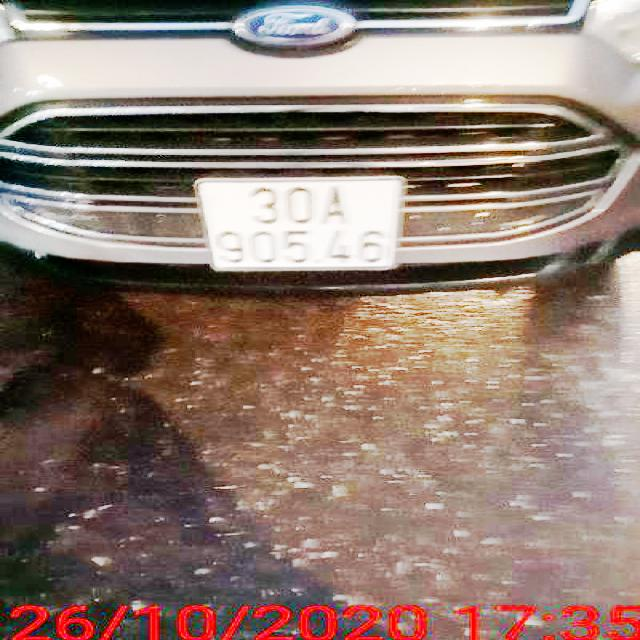license_plate: (194, 181, 403, 270)
